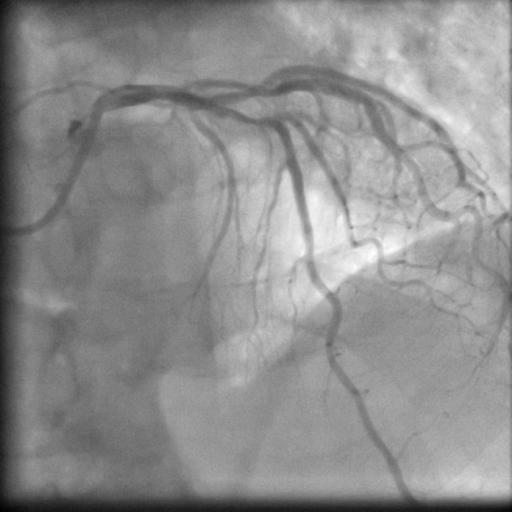Stenosis: (223, 104, 269, 123)
